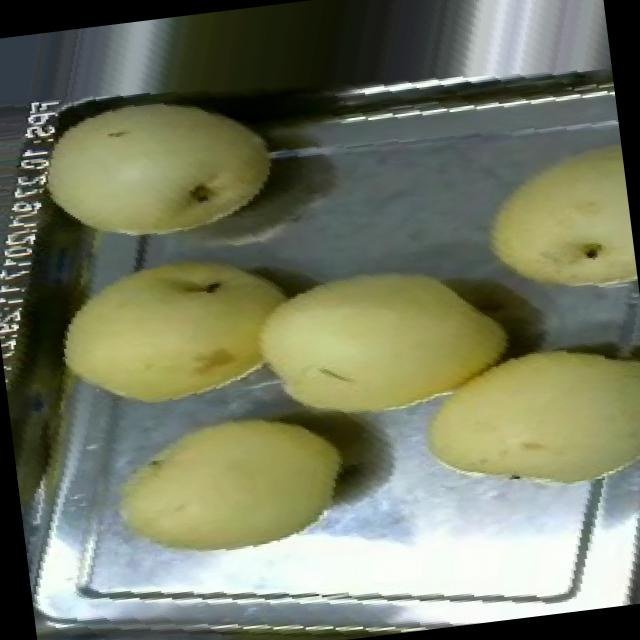Fruit: (26, 214, 316, 442), (86, 377, 370, 594), (237, 241, 529, 448), (11, 74, 293, 279), (395, 312, 640, 529), (466, 128, 640, 320)
